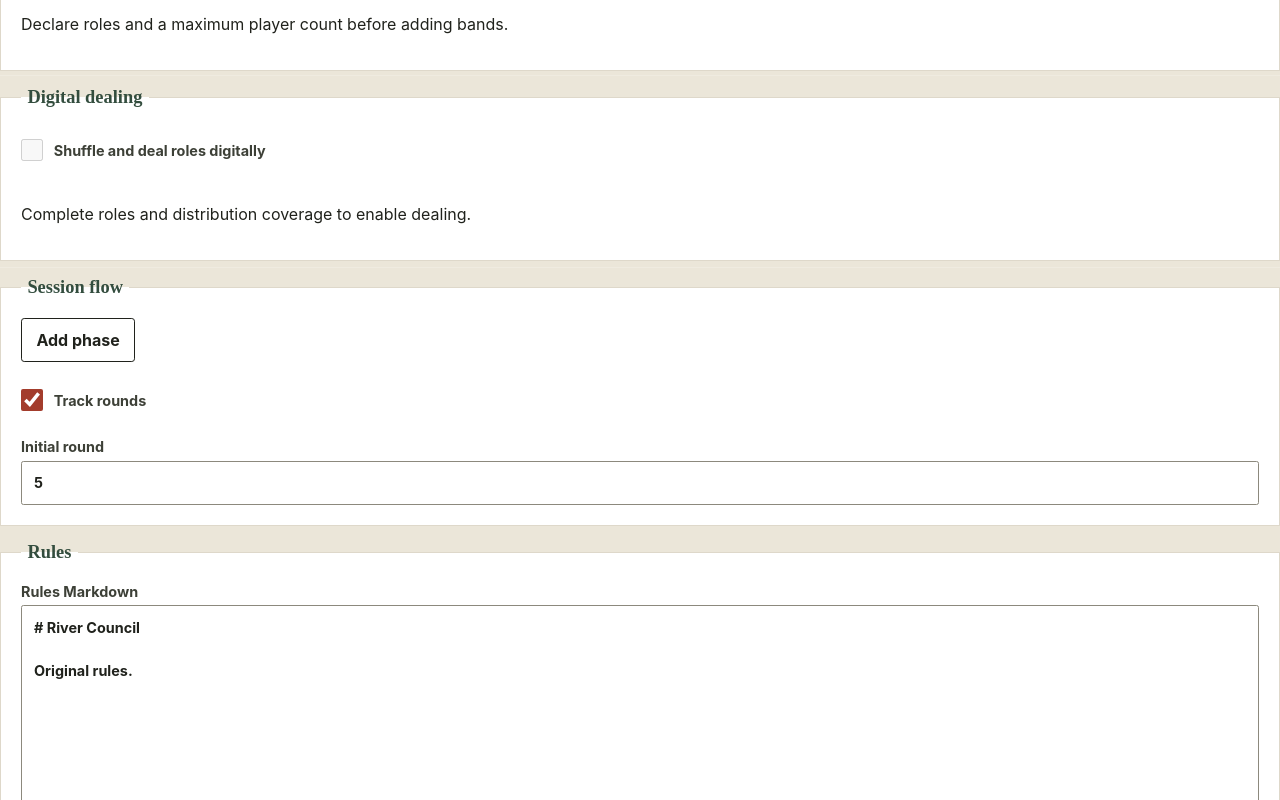
Test case: GuidedGameEditor › synchronizes the round draft when disabling and re-enabling rounds
(page scrolled)
Expected: the field labelled "Initial round" holds "5", [21,461,1259,505]
Click the checkbox labelled "Track rounds". click: (32, 400)
box: [21,389,43,411]
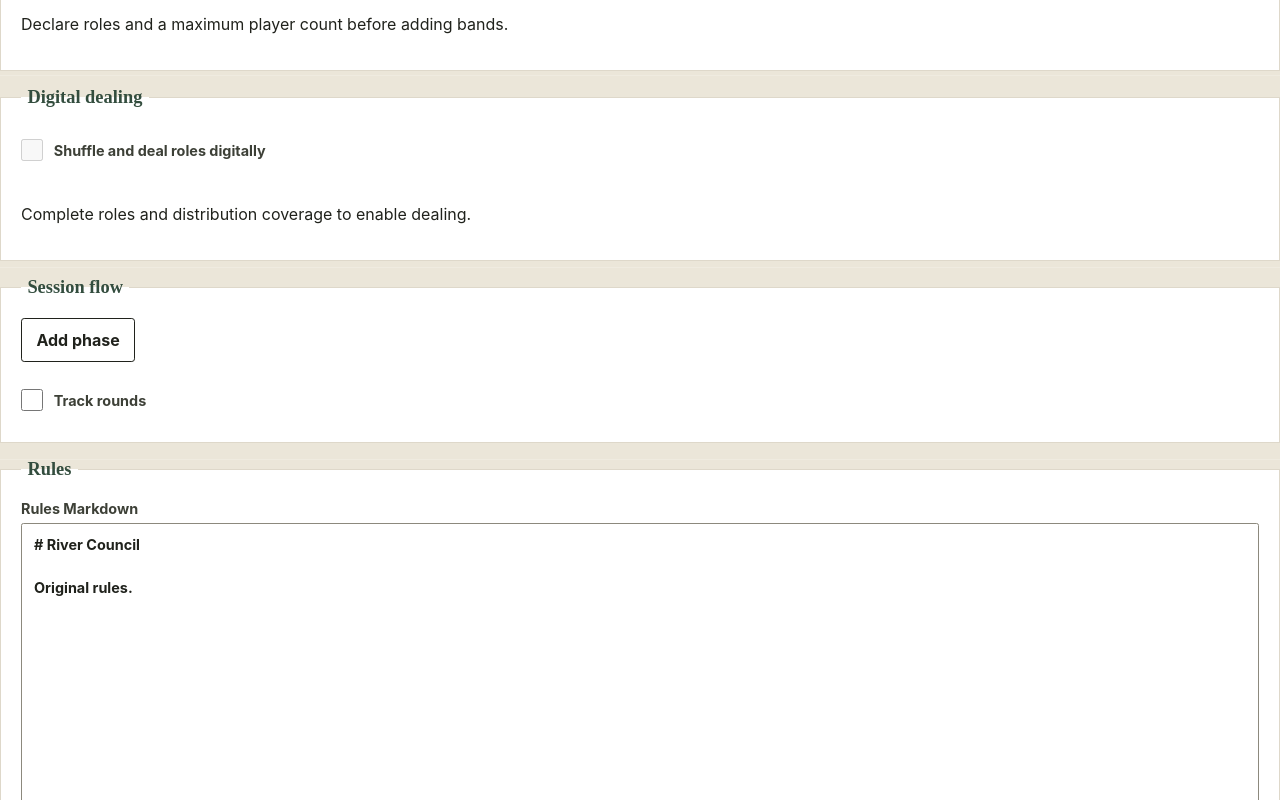
Click the checkbox labelled "Track rounds". click: (32, 400)
box: [21,389,43,411]
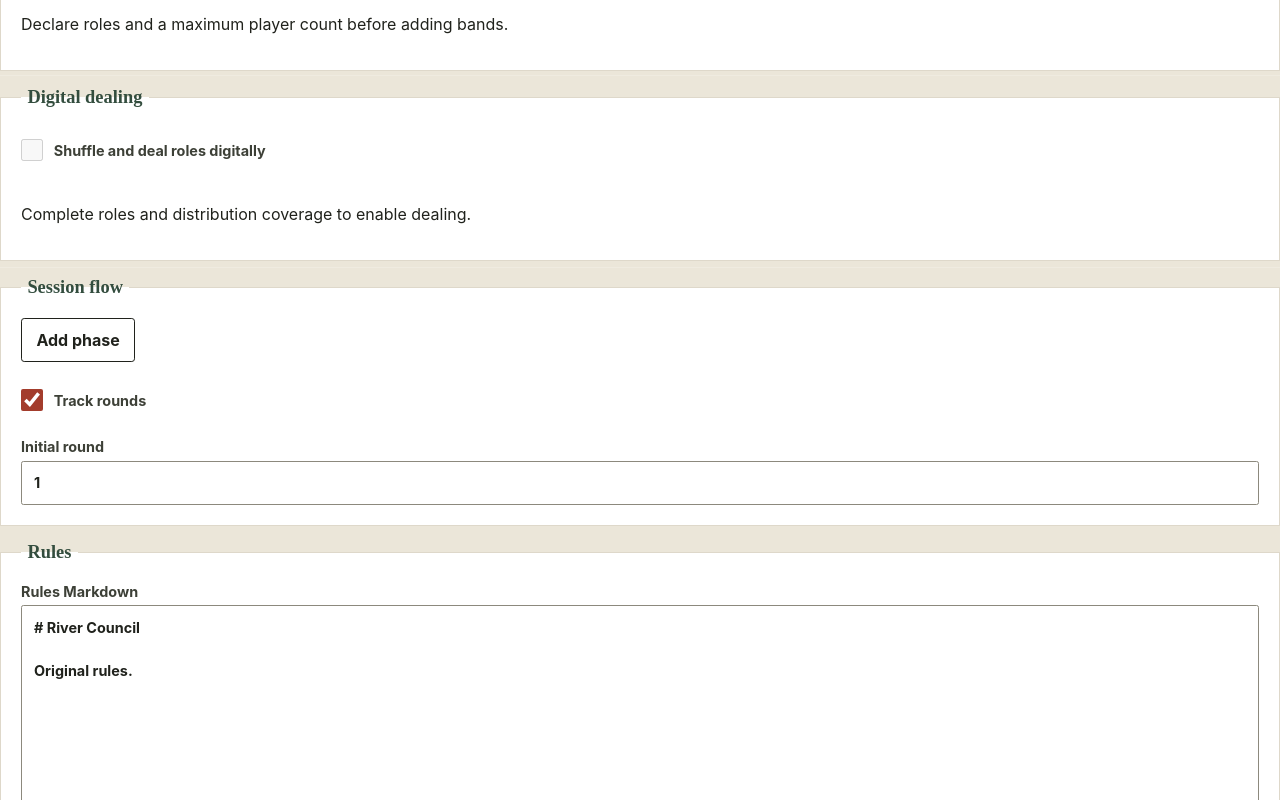
Result: the field labelled "Initial round" holds "1" at [21,461,1259,505]
